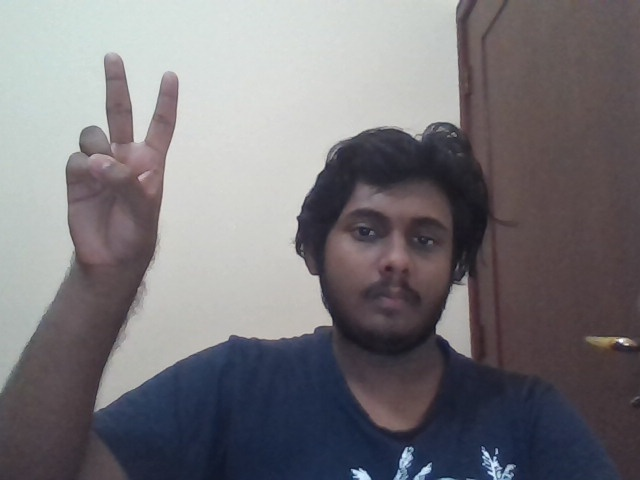peace: (65, 52, 180, 268)
